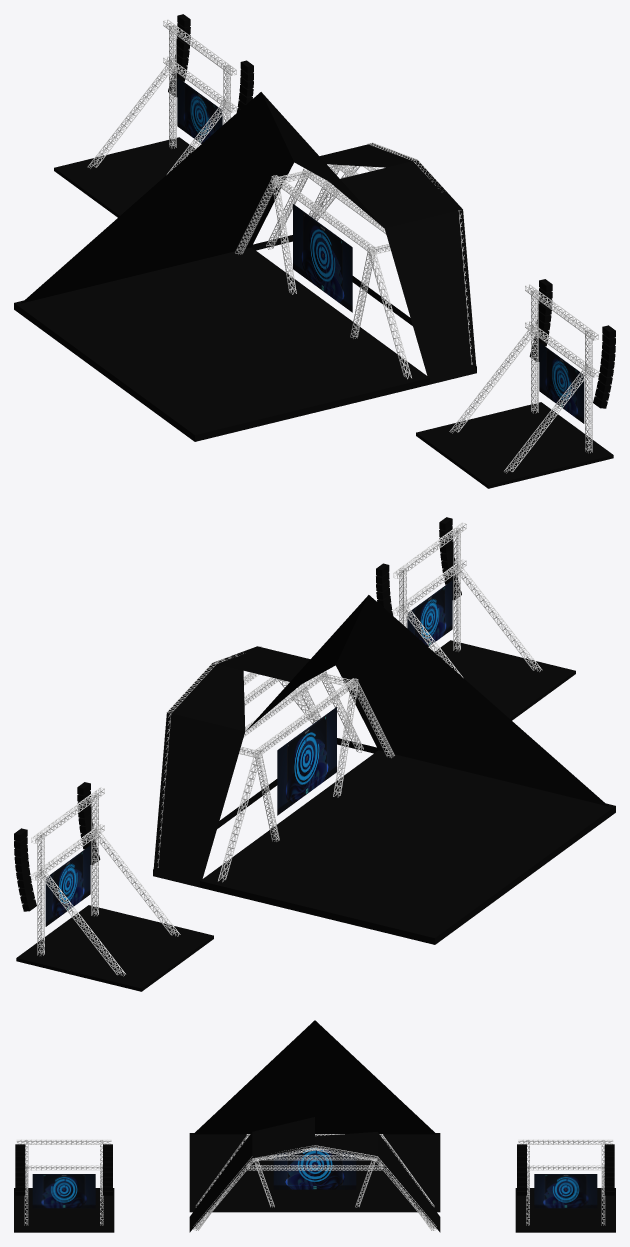
Rendered from Glastonbury.fbx.
The picture shows the model from 3 angles, top to bottom: view 1: azimuth 30°, elevation 25°; view 2: azimuth 150°, elevation 25°; view 3: azimuth 270°, elevation 25°; orthographic projection. The views are drawn at different scales.
Visible parts, largest first — view 1: Tent, Base L, Base R, MainScreen, MainScreen.001, MainScreen.002, Speakers LL, Truss.030, Truss.028, Truss.029, Truss.014, Speakers LR (+11 smaller); view 2: Tent, Base R, Base L, MainScreen, MainScreen.002, MainScreen.001, Speakers RR, Truss.031, Truss.013, Truss.029, Truss.030, Speakers RL (+11 smaller); view 3: Tent, MainScreen, Base R, Base L, MainScreen.001, MainScreen.002, Speakers LL, Speakers RR, Truss.026, Truss.027, Speakers LR, Speakers RL (+9 smaller).
Part boxes in pixels (bbox=[...]): Tent: bbox=[14, 92, 476, 441]; Base L: bbox=[416, 402, 613, 488]; Base R: bbox=[54, 137, 194, 217]; MainScreen: bbox=[293, 204, 352, 312]; MainScreen.001: bbox=[539, 342, 584, 423]; MainScreen.002: bbox=[177, 77, 222, 143]; Speakers LL: bbox=[593, 325, 615, 408]; Truss.030: bbox=[87, 60, 175, 168]; Truss.028: bbox=[449, 325, 537, 433]; Truss.029: bbox=[504, 365, 591, 473]; Truss.014: bbox=[367, 247, 411, 379]; Speakers LR: bbox=[529, 279, 552, 361]; Tent: bbox=[153, 595, 615, 944]; Base R: bbox=[16, 905, 213, 991]; Base L: bbox=[435, 640, 575, 720]; MainScreen: bbox=[277, 707, 336, 815]; MainScreen.002: bbox=[45, 845, 90, 926]; MainScreen.001: bbox=[407, 580, 452, 646]; Speakers RR: bbox=[14, 828, 36, 911]; Truss.031: bbox=[92, 828, 180, 936]; Truss.013: bbox=[218, 750, 262, 882]; Truss.029: bbox=[454, 563, 542, 671]; Truss.030: bbox=[40, 868, 125, 976]; Speakers RL: bbox=[77, 782, 100, 864]; Tent: bbox=[189, 1020, 440, 1232]; MainScreen: bbox=[273, 1147, 356, 1189]; Base R: bbox=[515, 1188, 615, 1232]; Base L: bbox=[14, 1188, 114, 1232]; MainScreen.001: bbox=[32, 1174, 95, 1208]; MainScreen.002: bbox=[534, 1174, 597, 1208]; Speakers LL: bbox=[15, 1144, 25, 1195]; Speakers RR: bbox=[604, 1144, 614, 1195]; Truss.026: bbox=[16, 1139, 111, 1144]; Truss.027: bbox=[518, 1139, 612, 1144]; Speakers LR: bbox=[103, 1144, 112, 1195]; Speakers RL: bbox=[517, 1144, 526, 1195].
Size of what is drawn, in the model's own units: 20021 by 15000 by 48000.
